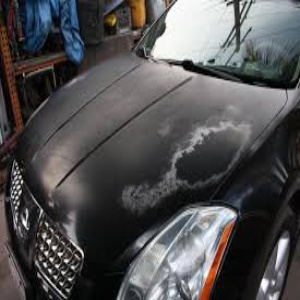bonnet: (104, 99, 251, 201)
